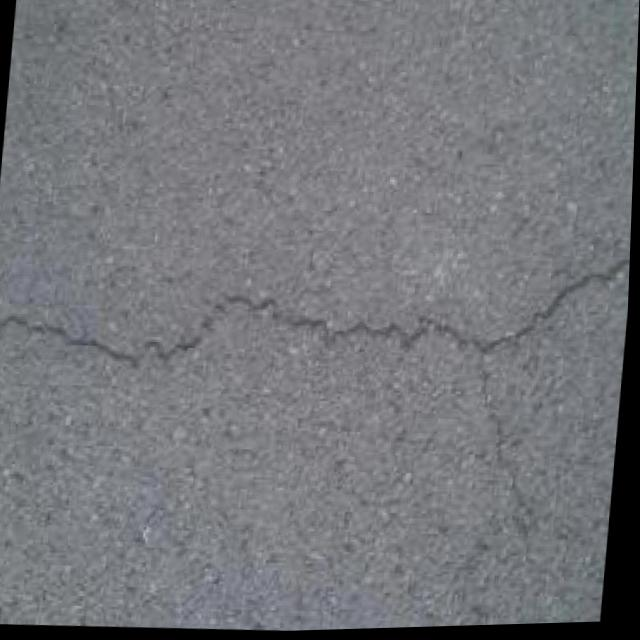Crack: (0, 214, 633, 415)
